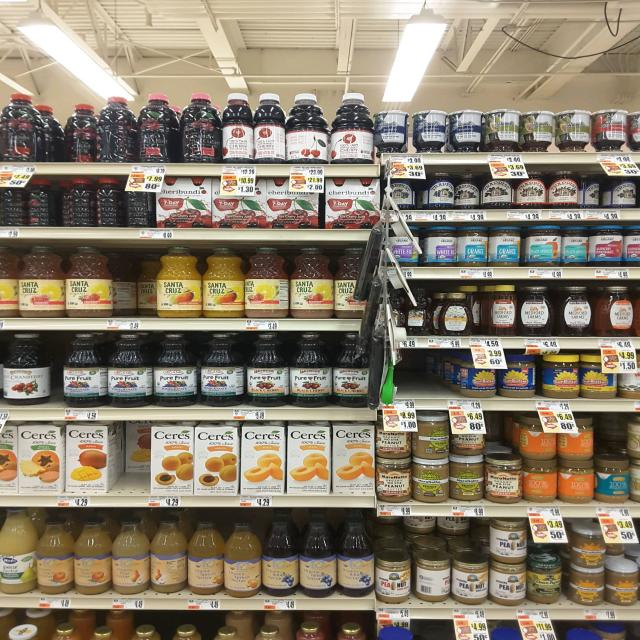100- O.O.S: (398, 349, 433, 409)
